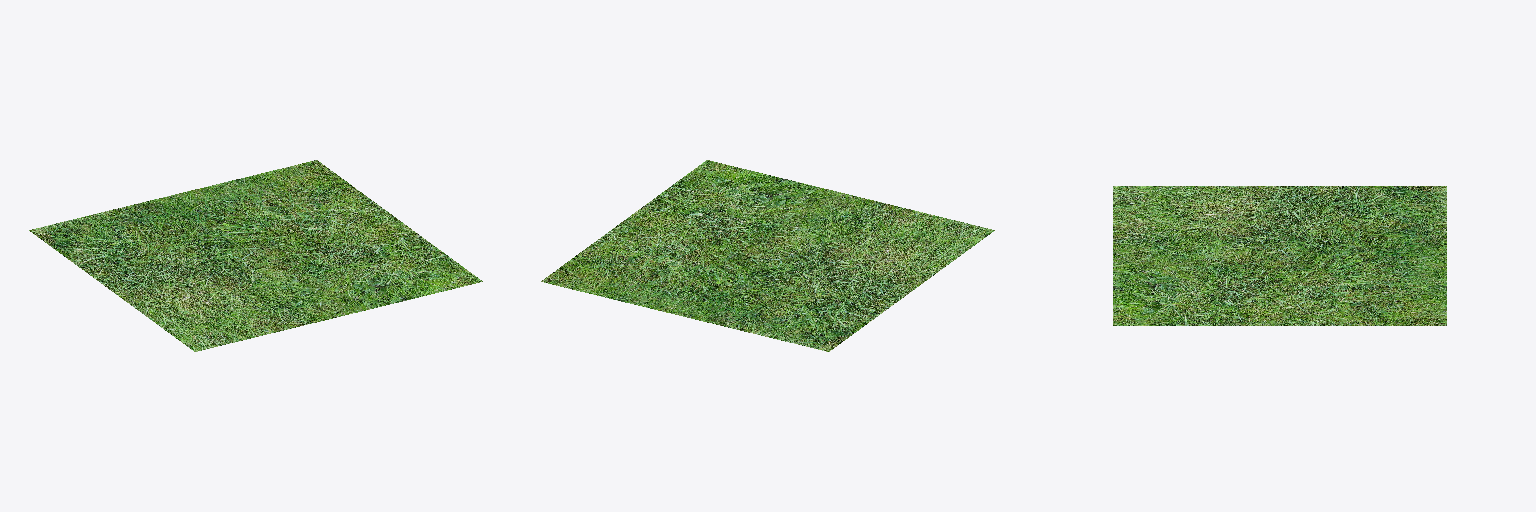
The picture shows the model from 3 angles: view 1: azimuth 30°, elevation 25°; view 2: azimuth 150°, elevation 25°; view 3: azimuth 270°, elevation 25°; orthographic projection.
Visible parts, largest first — view 1: pPlane1; view 2: pPlane1; view 3: pPlane1.
Part boxes in pixels (x1,y1,x2,y2): pPlane1: (29,160,482,351); pPlane1: (541,160,994,351); pPlane1: (1113,186,1446,325).
Size of the model in its own units: 20 by 0 by 20.
Materials: 1 (1 with a texture image).